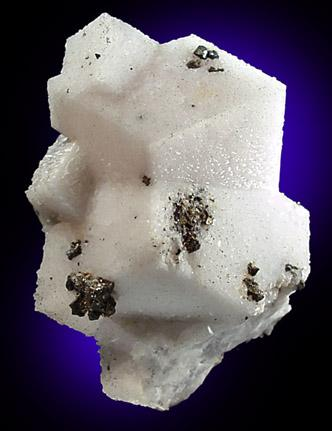calcite: (26, 13, 310, 336)
